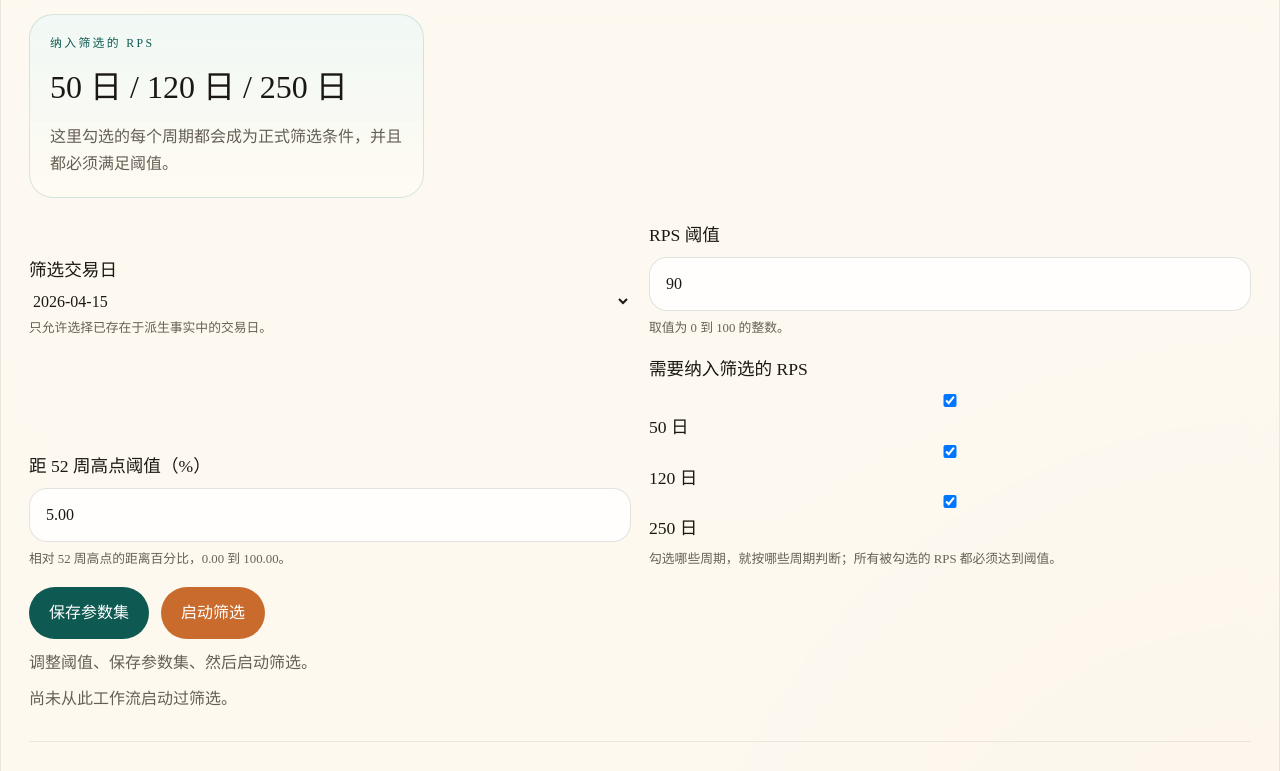
Test: StrategyConfigPanel › shows a validation error before saving when no RPS period is selected for screening
The image size is (1280, 771).
(page scrolled)
Click the checkbox labelled "50 日".
click(950, 401)  # box x1=649 y1=394 x2=1251 y2=407
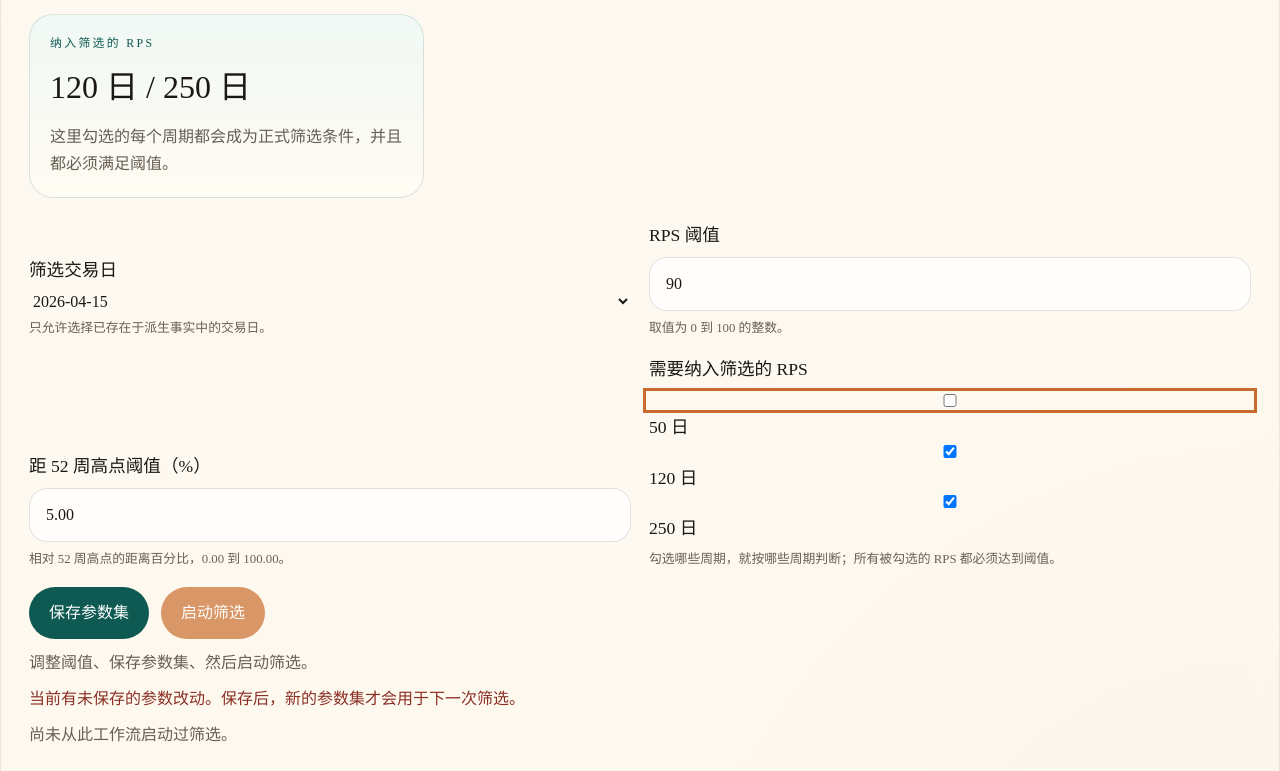
Click the checkbox labelled "120 日".
click(950, 451)  # box x1=649 y1=445 x2=1251 y2=458
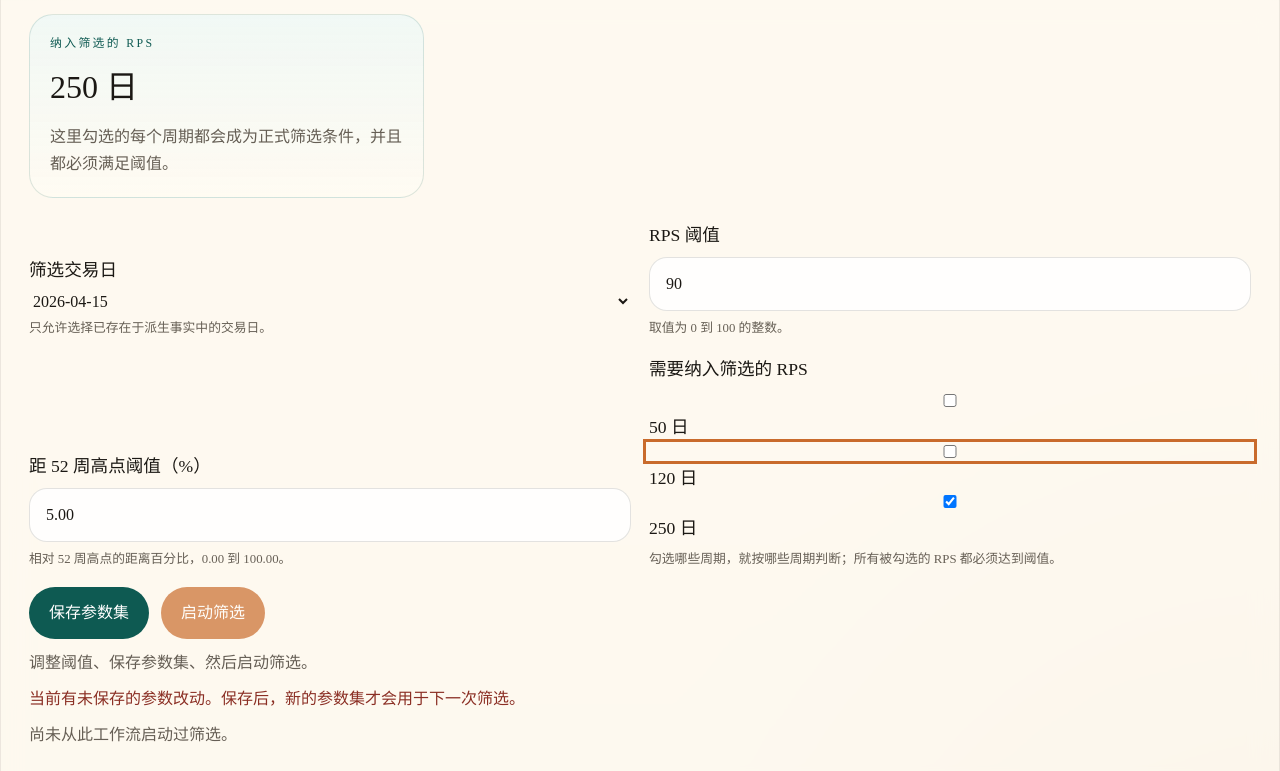
Click the checkbox labelled "250 日".
click(950, 502)  # box x1=649 y1=495 x2=1251 y2=508
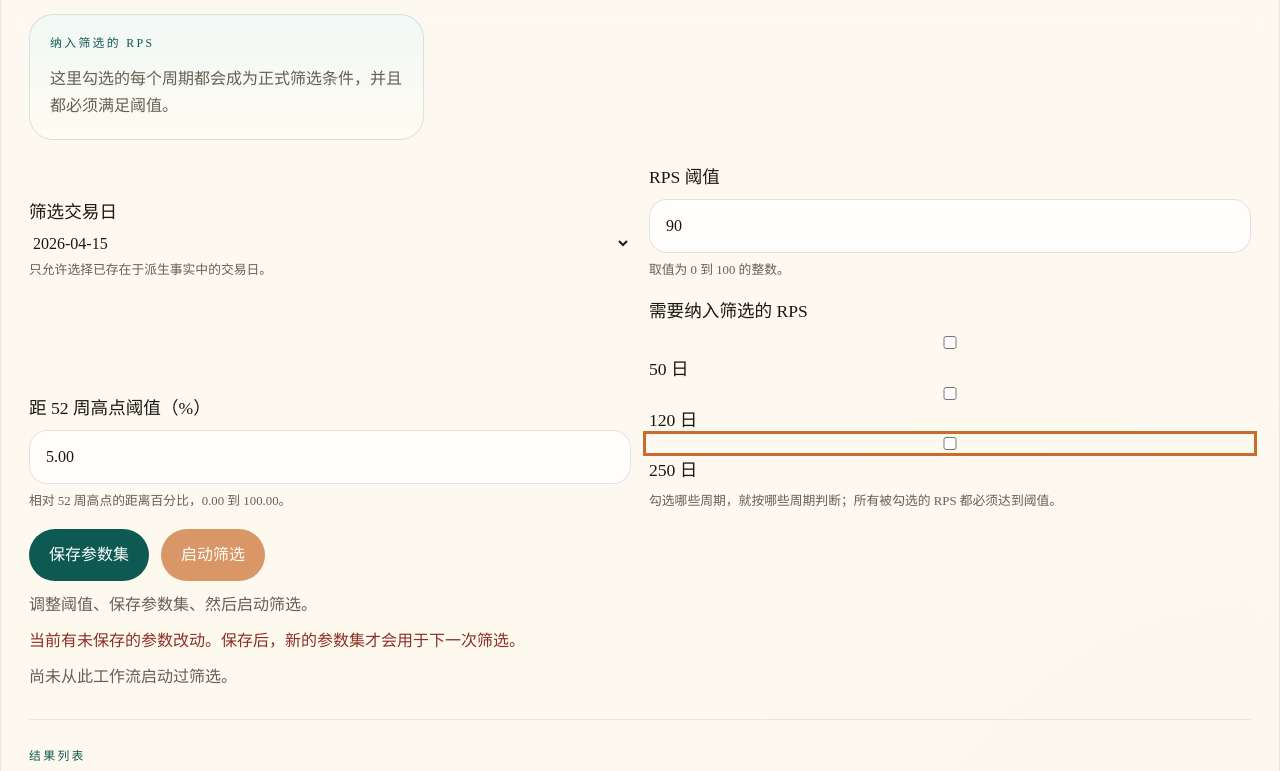
Click the button "保存参数集".
click(89, 555)  # box x1=29 y1=529 x2=149 y2=581
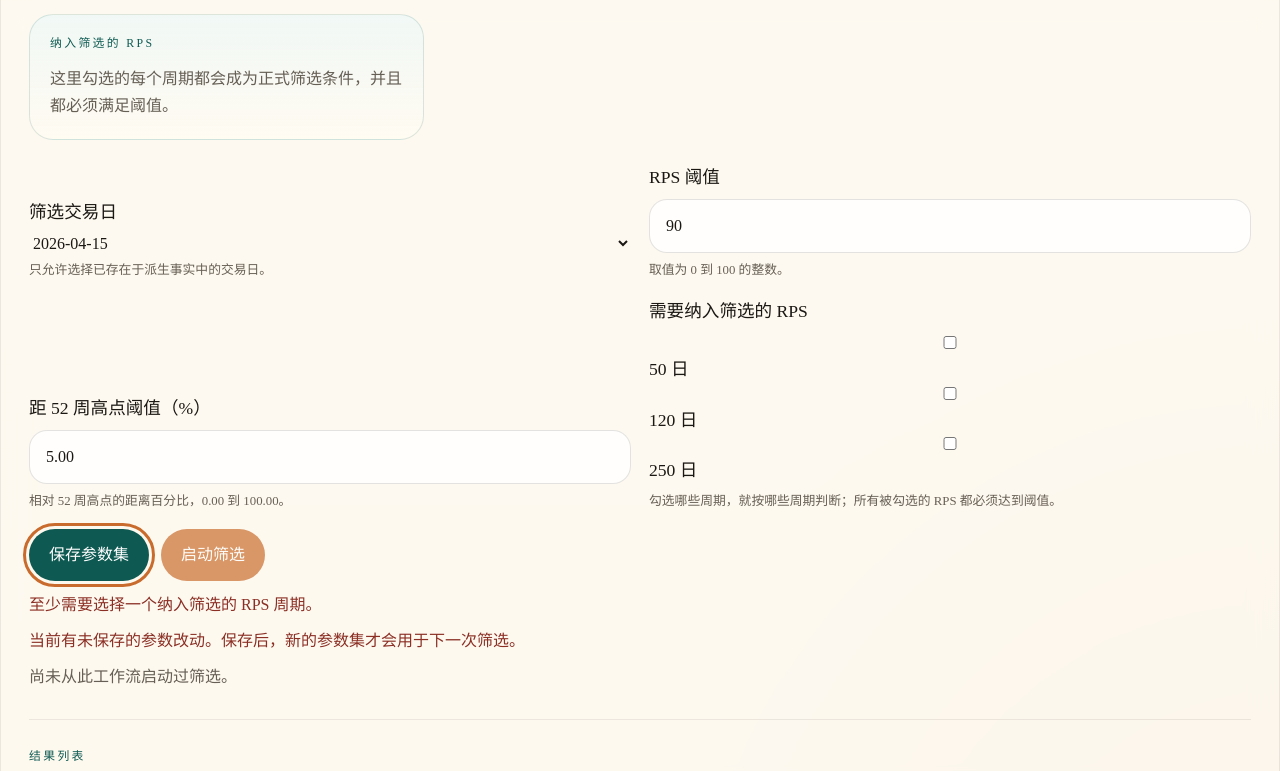
Expected: the text "至少需要选择一个纳入筛选的 RPS 周期。" is shown, x1=29 y1=596 x2=322 y2=613
